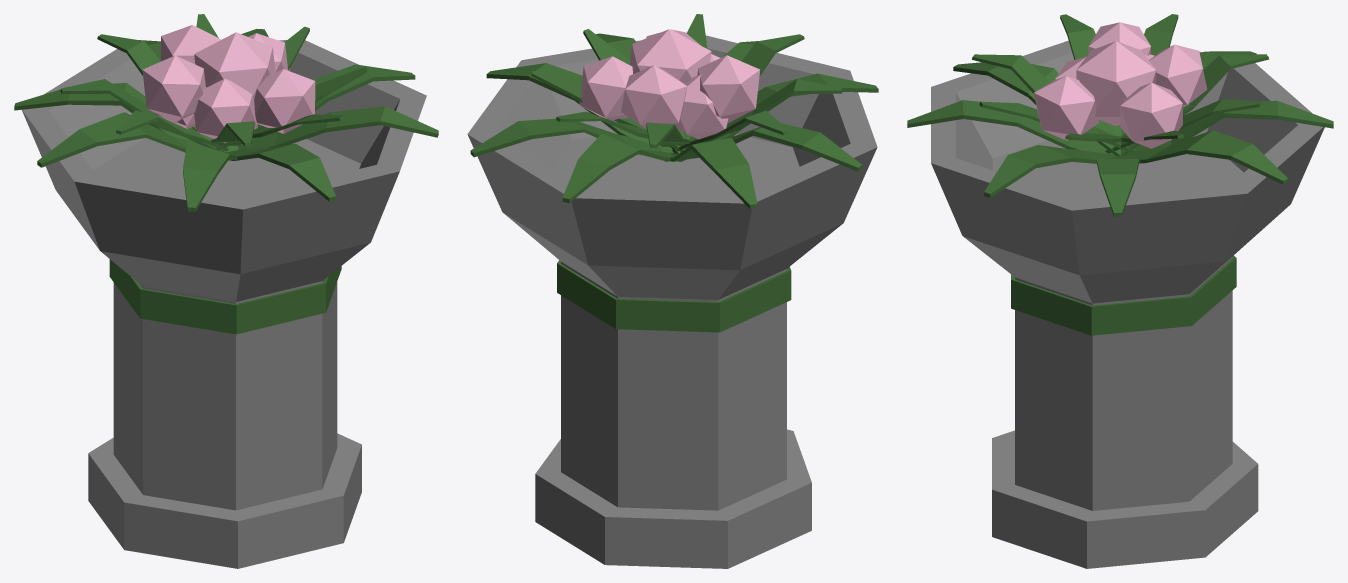
Rendered from SM_Stoneplant.fbx.
3 views of the same model, side by side, from view 1: azimuth 30°, elevation 25°; view 2: azimuth 150°, elevation 25°; view 3: azimuth 270°, elevation 25° (orthographic).
Visible parts, largest first — view 1: Cube.013; view 2: Cube.013; view 3: Cube.013.
Part boxes in pixels (x1,y1,x2,y2): Cube.013: (14, 14, 438, 568); Cube.013: (467, 14, 878, 568); Cube.013: (907, 14, 1333, 568).
Size of the model in its own units: 136 by 167 by 136.
